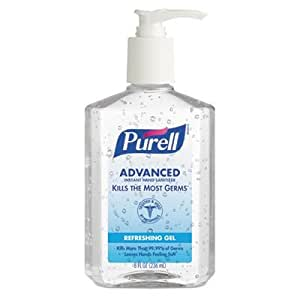Sanitizer: (78, 5, 226, 291)
